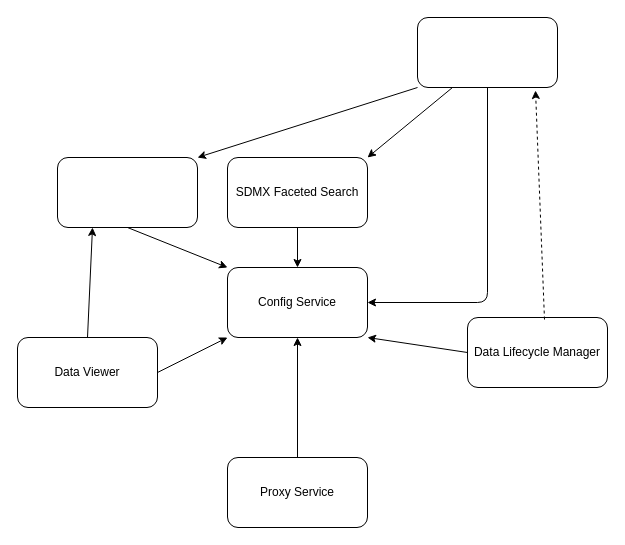
Image size: 625x545. Some labels were removed from this diagram. Each missing label, with the centre of its shape:
Data Explorer: the point at 487,52
Share Service: the point at 127,192
